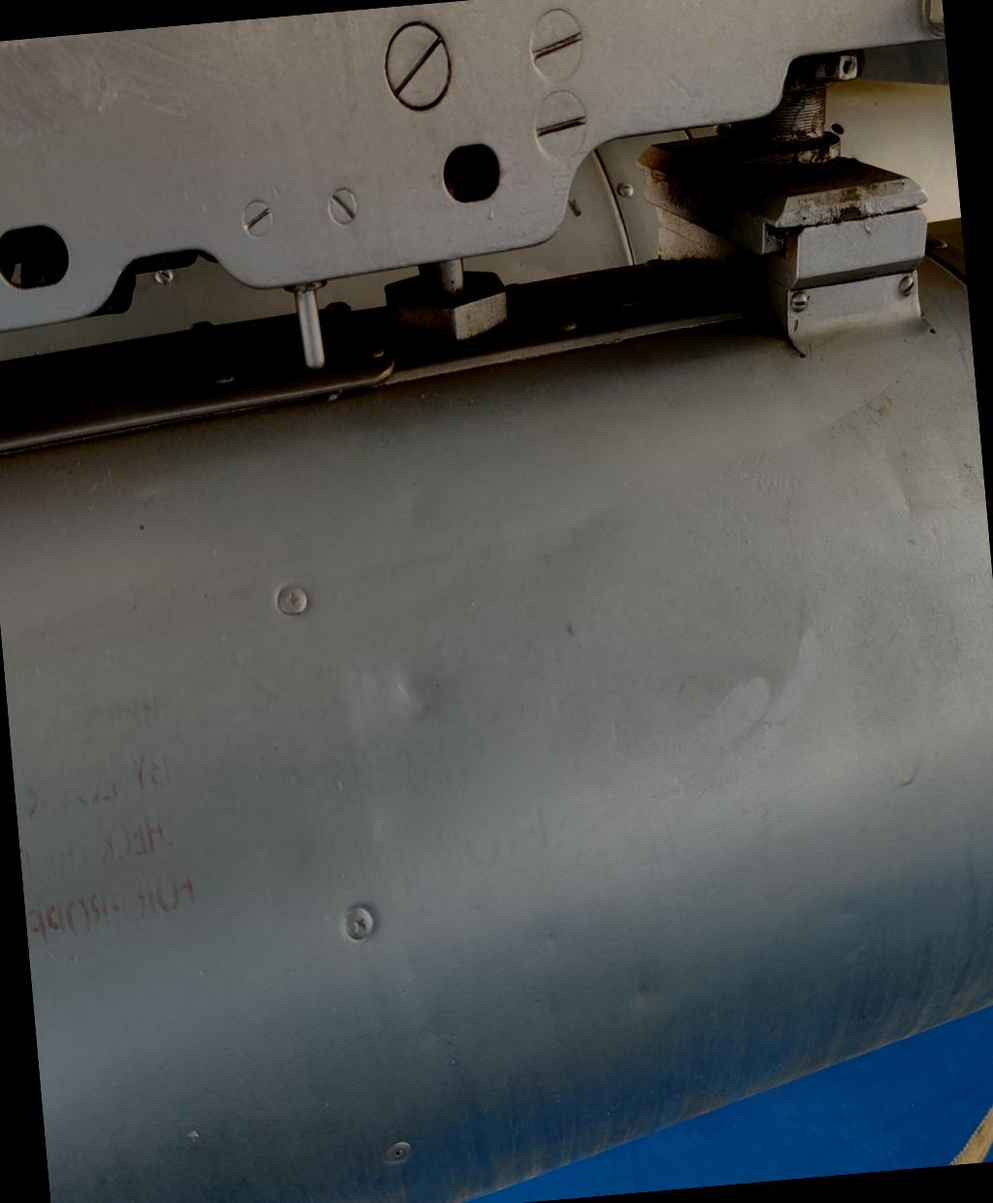dent: (359, 633, 472, 749)
